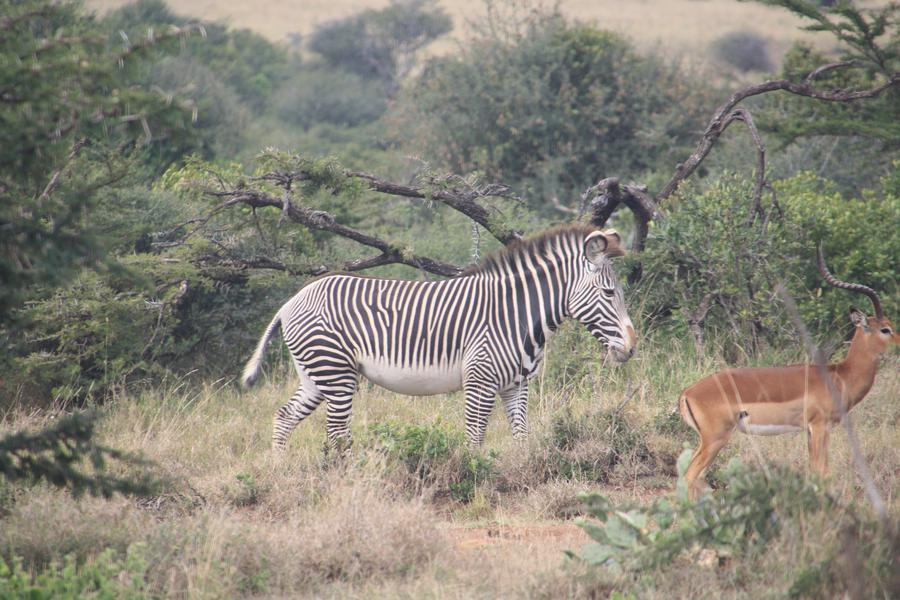zebra_grevys: (265, 267, 526, 384)
